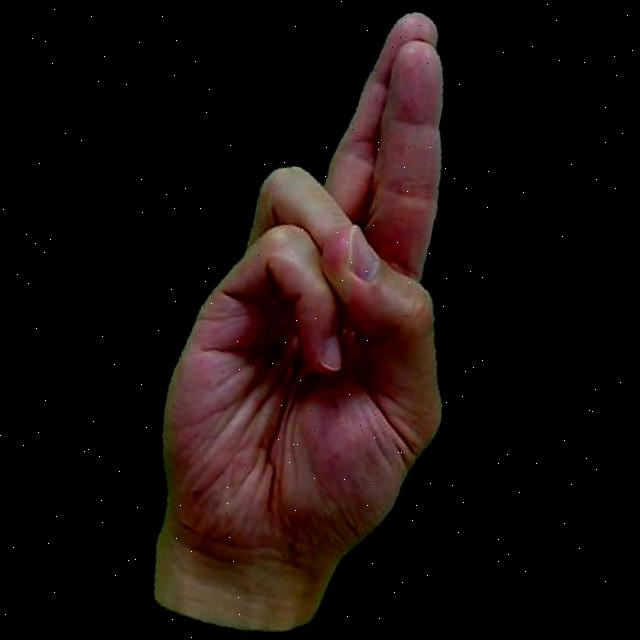r: (112, 0, 513, 640)
